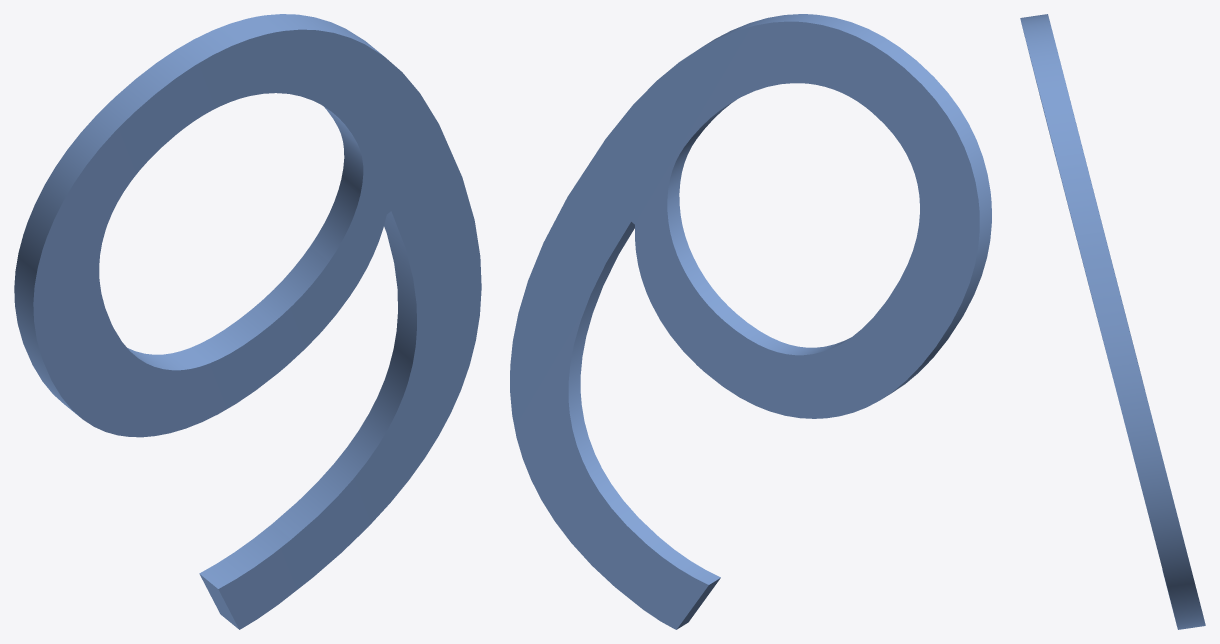
The model's file is New_Number_9.gltf.
3 views of the same model, side by side, from view 1: azimuth 30°, elevation 25°; view 2: azimuth 150°, elevation 25°; view 3: azimuth 270°, elevation 25° (orthographic). The views are drawn at different scales.
Visible parts, largest first — view 1: Part 117; view 2: Part 117; view 3: Part 117.
Part boxes in pixels (left/top/right/bottom): Part 117: left=14, top=14, right=481, bottom=629; Part 117: left=510, top=14, right=991, bottom=629; Part 117: left=1020, top=14, right=1205, bottom=629.
Bounding box in the file's own units: 0.00437 × 0.00565 × 0.00169.
